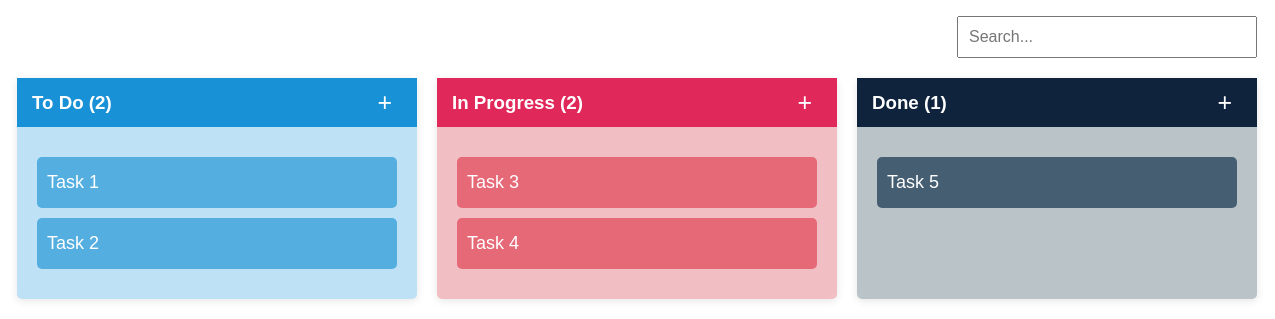
it: renders KanbanBoard and performs search
Expected: the text "Task 1" is shown, left=47, top=172, right=99, bottom=193
Expected: the text "Task 2" is shown, left=47, top=233, right=99, bottom=254
In the field with placeholder "Search...": (1107, 37) left=957, top=16, right=1257, bottom=58, type "Task 1"
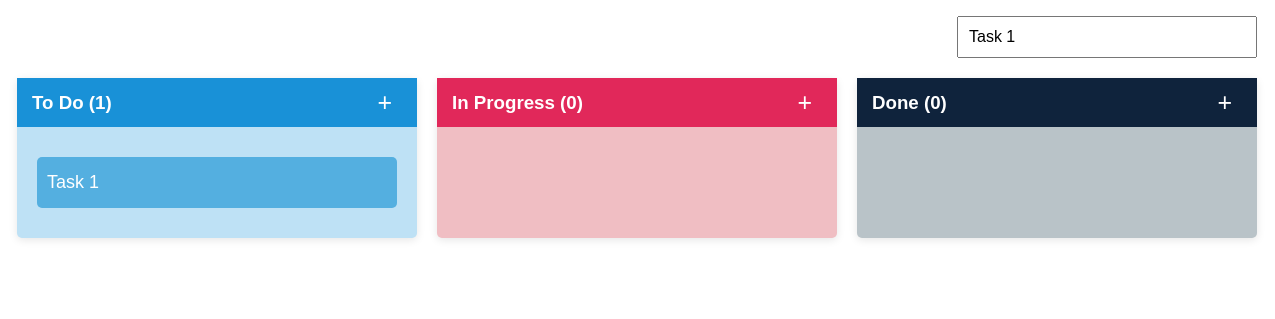
Now the heading "To Do (1)" is shown, box left=32, top=92, right=112, bottom=114
Now the text "Task 2" is gone
Now the text "Task 3" is gone
